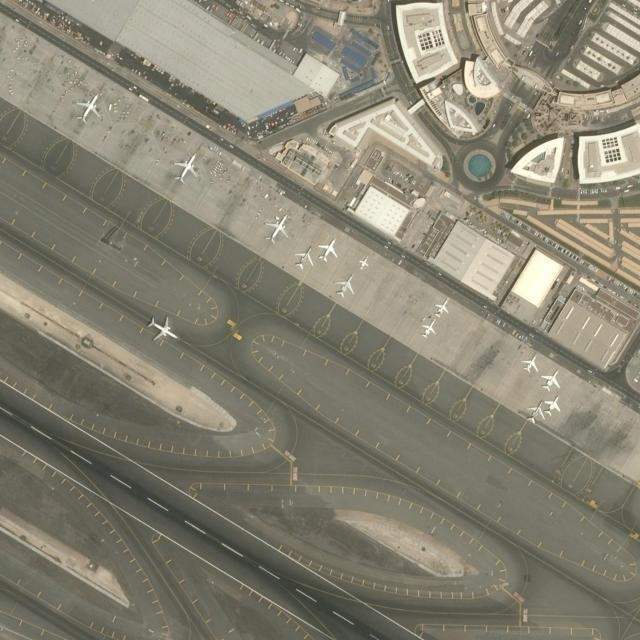Aircraft: (73, 92, 103, 126), (144, 314, 176, 344), (263, 210, 287, 244), (315, 235, 345, 262), (174, 152, 202, 180), (289, 244, 313, 272), (332, 272, 356, 298), (538, 369, 564, 393), (418, 318, 439, 340), (527, 400, 546, 424), (520, 354, 542, 374), (541, 398, 565, 414), (432, 299, 448, 317)
